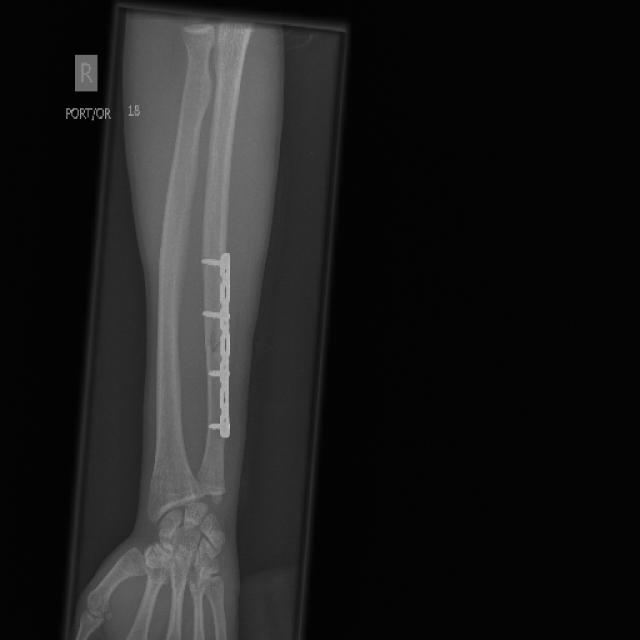forearm fracture: (205, 321, 223, 366)
